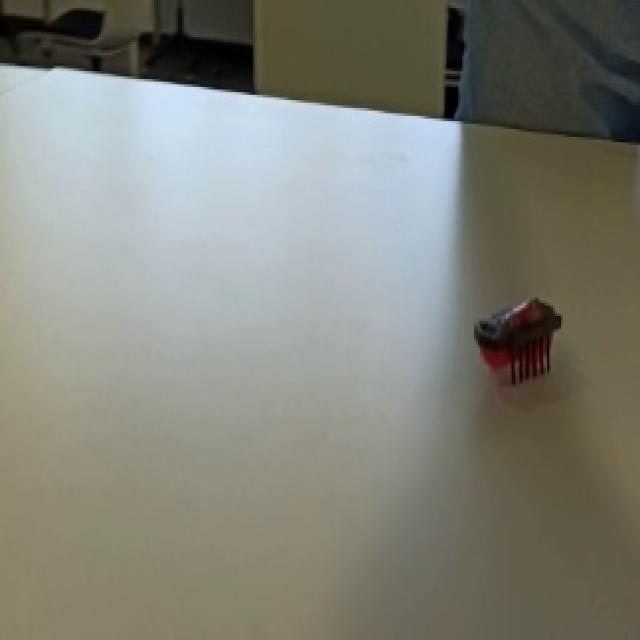2_NanoBug_Negro: (464, 270, 585, 410)
